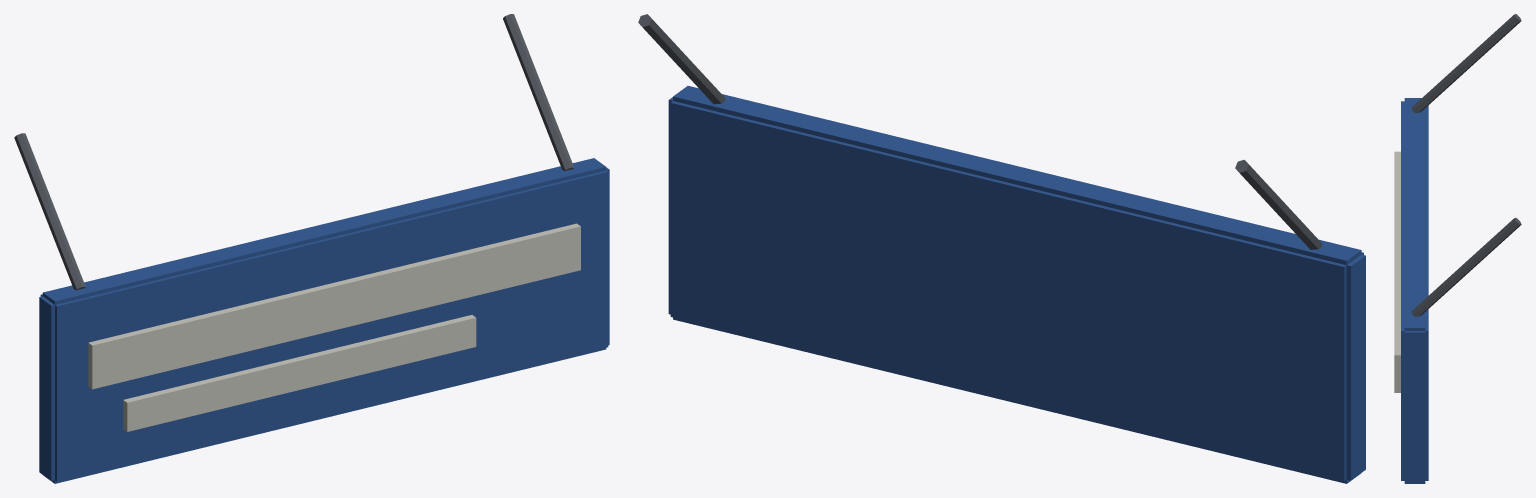
File: shop_sign.glb
The picture shows the model from 3 angles, left to right: view 1: azimuth 30°, elevation 25°; view 2: azimuth 150°, elevation 25°; view 3: azimuth 270°, elevation 25°; orthographic projection. The views are drawn at different scales.
Visible parts, largest first — view 1: sign_mesh; view 2: sign_mesh; view 3: sign_mesh.
Boxes of the visible parts, x1=… form: sign_mesh: x1=14, y1=14, x2=609, y2=483; sign_mesh: x1=638, y1=14, x2=1365, y2=483; sign_mesh: x1=1394, y1=14, x2=1521, y2=483.
Size of the model in its own units: 1.6 by 0.8106 by 0.3706.
